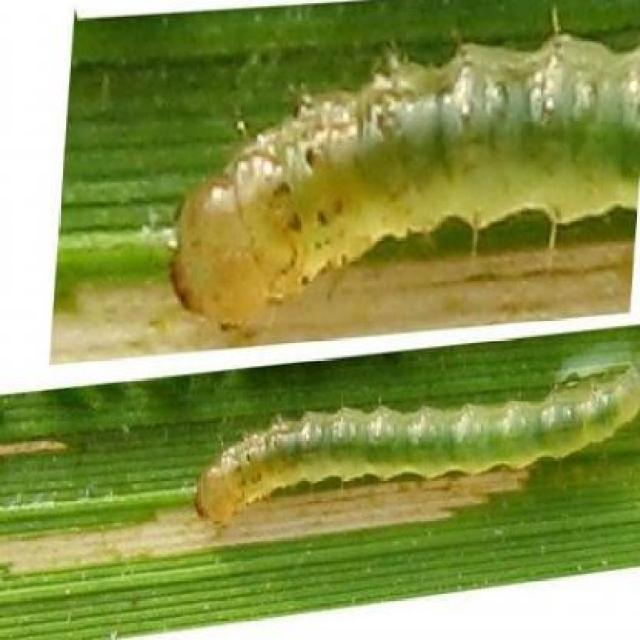leaf-folder: (160, 25, 640, 337), (182, 382, 629, 561)
